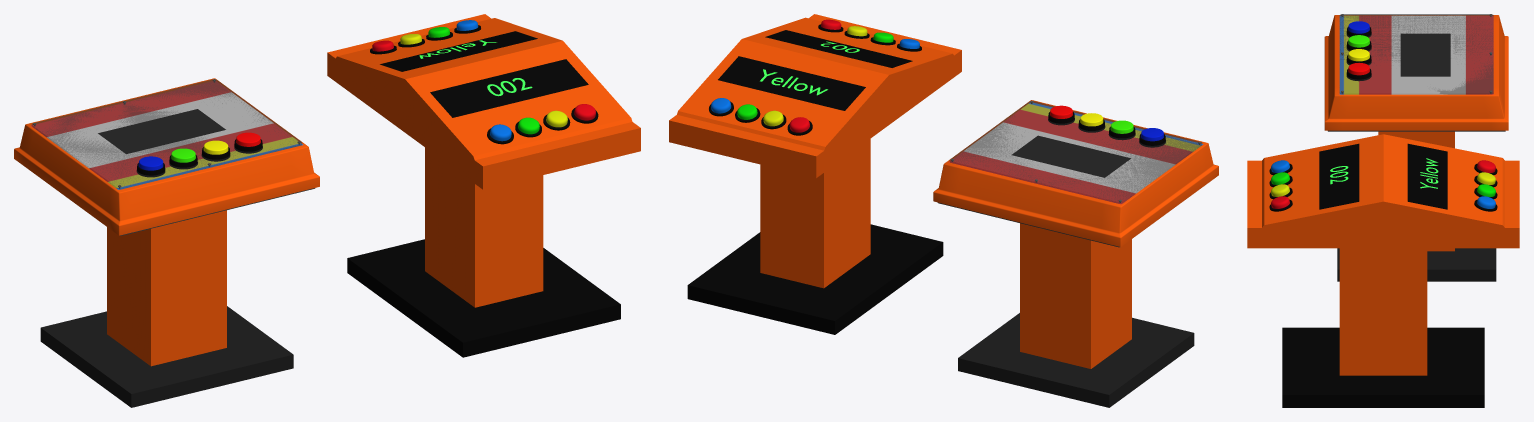
Rendered from TheMachine.fbx.
3 views of the same model, side by side, from view 1: azimuth 30°, elevation 25°; view 2: azimuth 150°, elevation 25°; view 3: azimuth 270°, elevation 25° (orthographic). The views are drawn at different scales.
Parts seen in each view (by area): view 1: Cube.002, TheMachine_Bottom; view 2: Cube.002, TheMachine_Bottom; view 3: Cube.002, TheMachine_Bottom.
Part boxes in pixels (x1,y1,x2,y2): Cube.002: [327, 14, 640, 357]; TheMachine_Bottom: [14, 78, 319, 407]; Cube.002: [669, 14, 961, 334]; TheMachine_Bottom: [933, 100, 1218, 407]; Cube.002: [1247, 134, 1519, 407]; TheMachine_Bottom: [1324, 14, 1508, 281].
Size of the model in its own units: 2680 by 1266 by 1513.
10 materials, 2 textured.
